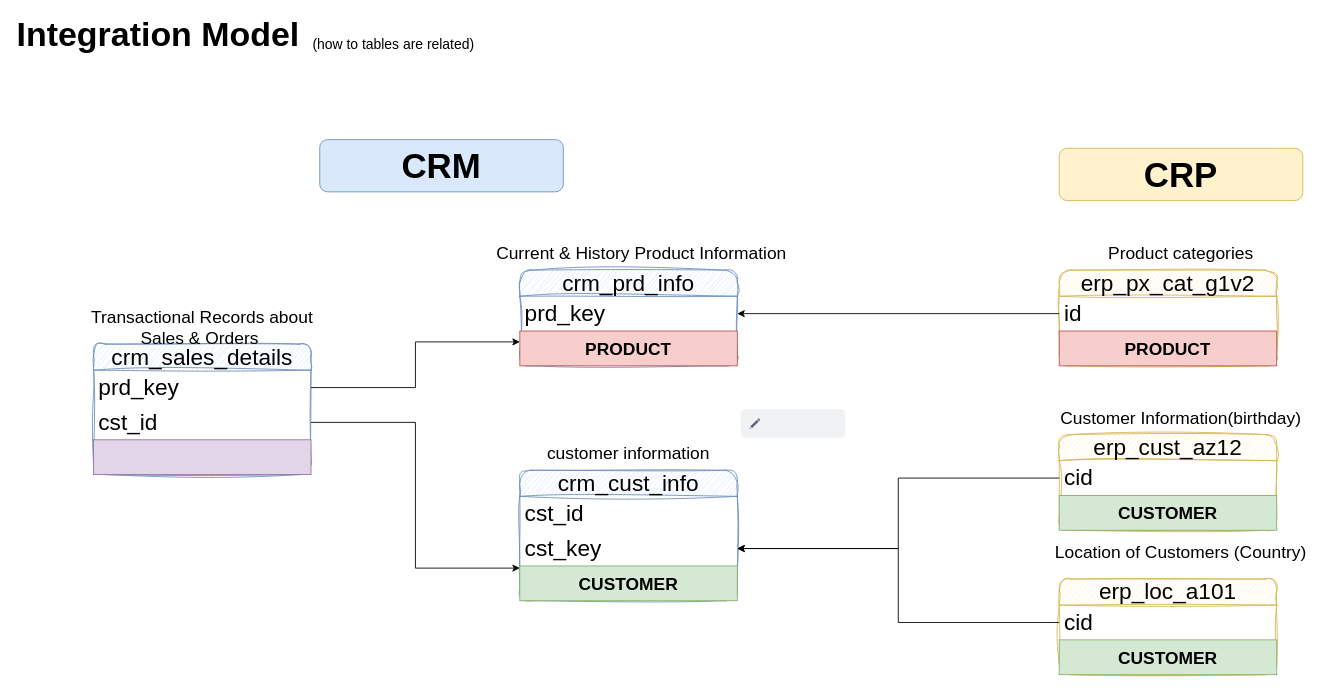
This 1343x690 diagram has some shape labels left out. The centre of each missing label's shape, as x and y in pixels:
"Icon and label" belongs at point (792, 423).
"SALES" belongs at point (202, 457).
